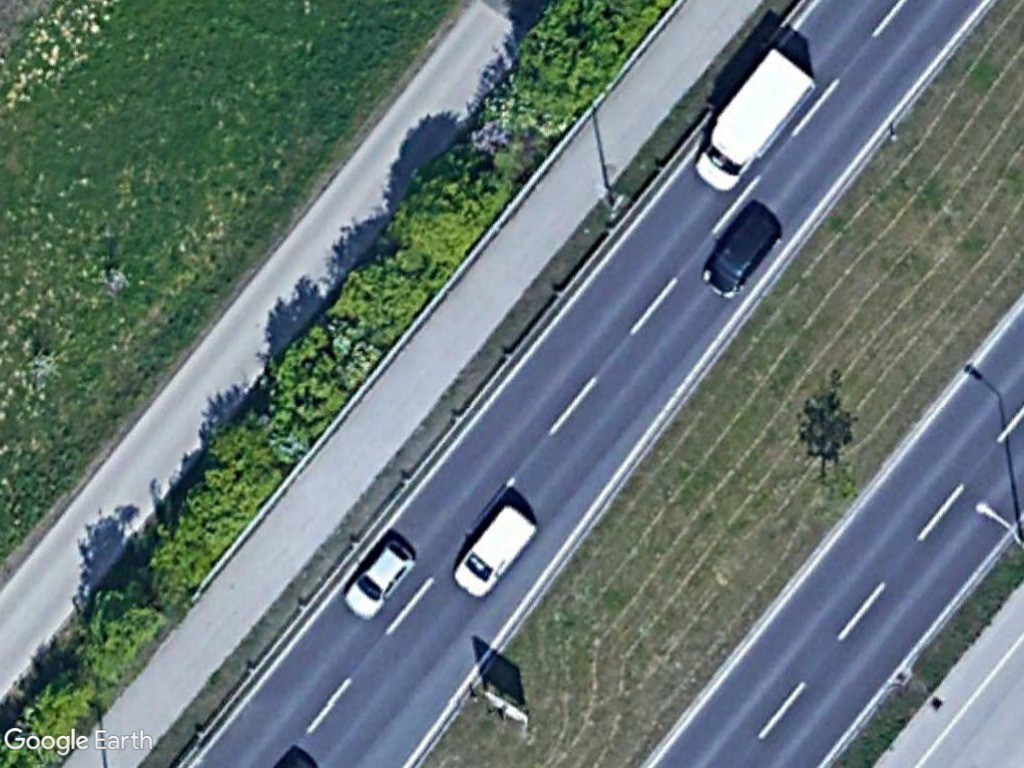car: (339, 533, 419, 624)
truck: (691, 48, 819, 196)
van: (695, 199, 783, 304), (451, 500, 540, 598)
